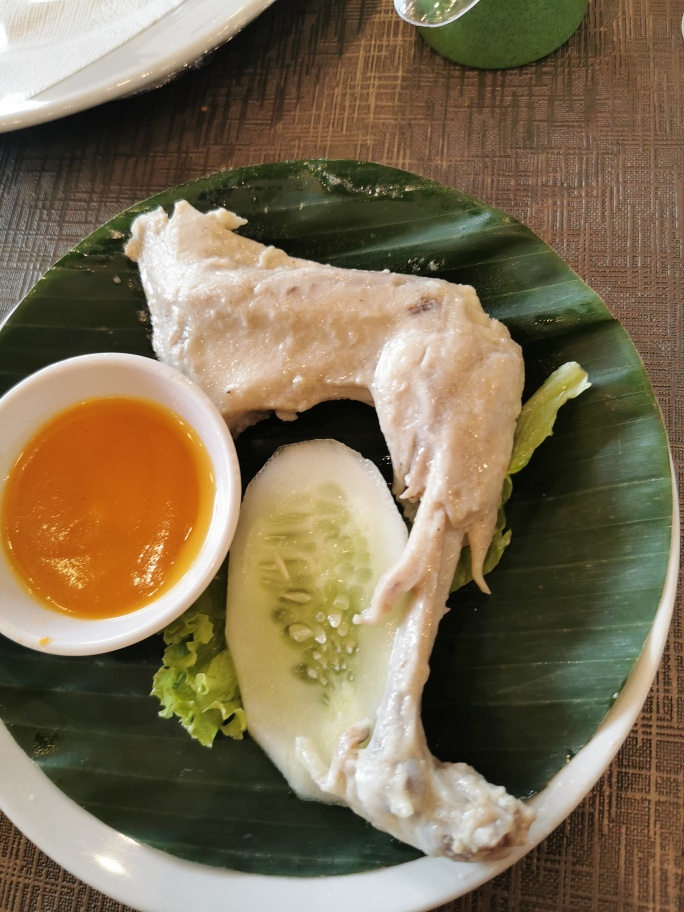ayam pop: (113, 201, 527, 866)
extra: (1, 402, 417, 799)
